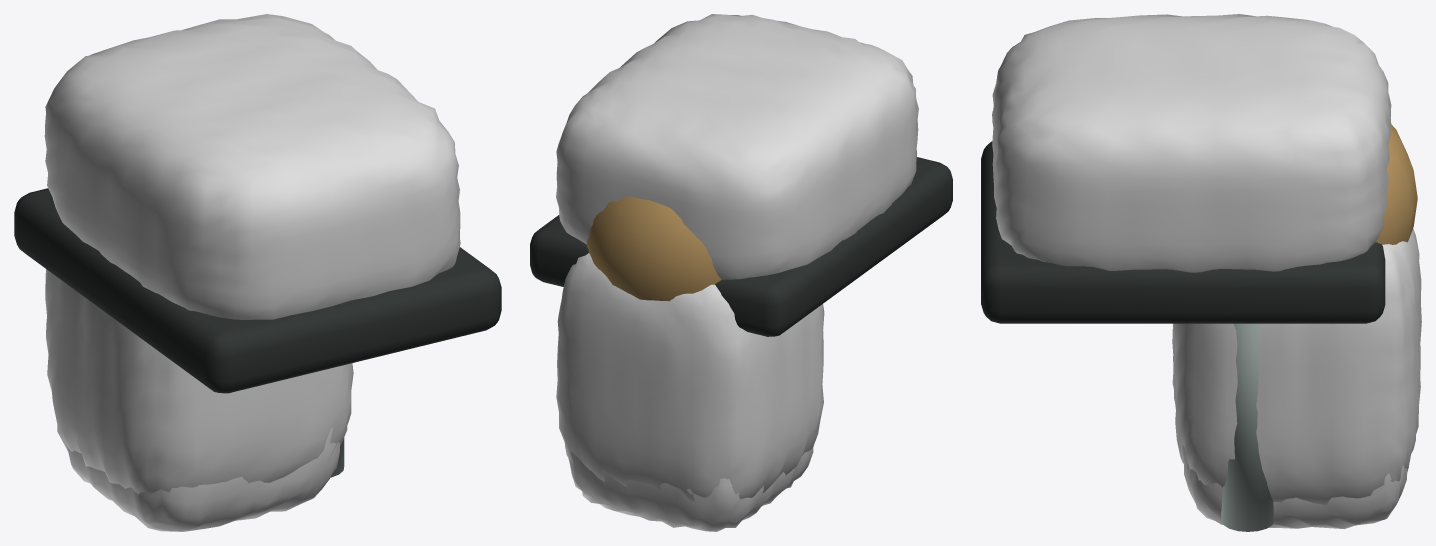
File: deadeye-leg-0.glb
3 views of the same model, side by side, from view 1: azimuth 30°, elevation 25°; view 2: azimuth 150°, elevation 25°; view 3: azimuth 270°, elevation 25° (orthographic). The views are drawn at different scales.
Parts seen in each view (by area): view 1: foot_clay, upper_clay, foot_rubber, lower_clay; view 2: foot_clay, upper_clay, foot_rubber, upper_brass, lower_clay; view 3: foot_clay, upper_clay, foot_rubber, lower_steel, lower_clay, upper_brass.
Boxes of the visible parts, x1,y1,x2,y2 form: foot_clay: (44,14,460,319); upper_clay: (45,269,353,493); foot_rubber: (14,188,501,393); lower_clay: (57,425,339,531); foot_clay: (556,14,918,279); upper_clay: (556,253,824,501); foot_rubber: (530,157,952,336); upper_brass: (586,196,721,301); lower_clay: (565,446,813,531); foot_clay: (992,14,1391,272); upper_clay: (1172,228,1421,505); foot_rubber: (981,141,1385,323); lower_steel: (1221,323,1274,531); lower_clay: (1182,445,1409,529); upper_brass: (1376,123,1417,244).
Size of the model in its own units: 0.4064 by 0.6057 by 0.545.
